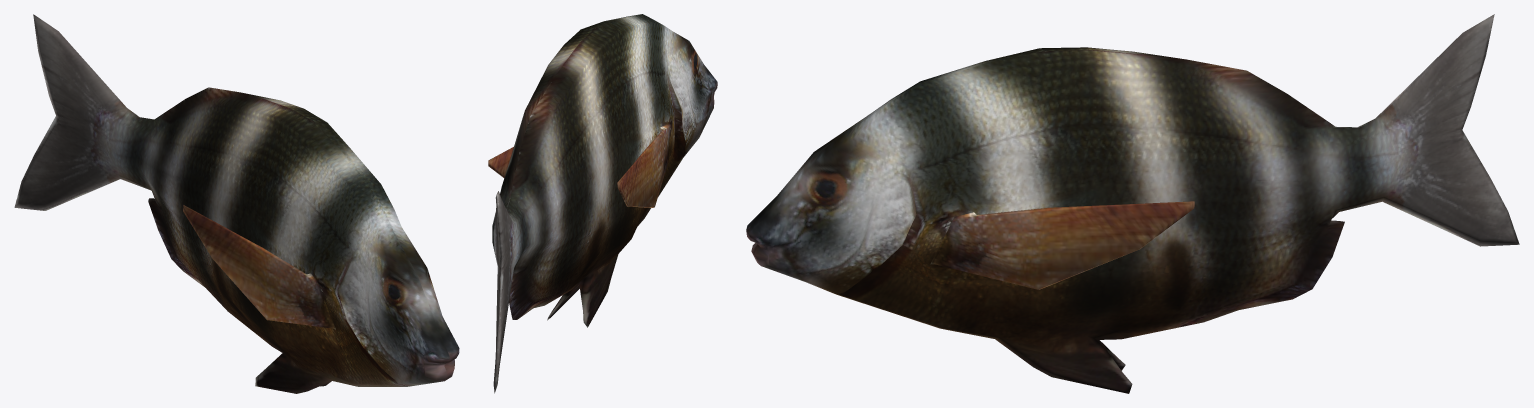
Rendered from Sea_Bream.obj.
The picture shows the model from 3 angles, left to right: view 1: azimuth 30°, elevation 25°; view 2: azimuth 150°, elevation 25°; view 3: azimuth 270°, elevation 25°; orthographic projection. The views are drawn at different scales.
Visible parts, largest first — view 1: Sea_Bream; view 2: Sea_Bream; view 3: Sea_Bream.
Boxes of the visible parts, <box> form: Sea_Bream: <box>14,14,459,393</box>; Sea_Bream: <box>488,14,717,393</box>; Sea_Bream: <box>746,14,1519,393</box>.
Bounding box in the file's own units: 0.1364 × 0.2539 × 0.5329.
Materials: 1 (1 with a texture image).
